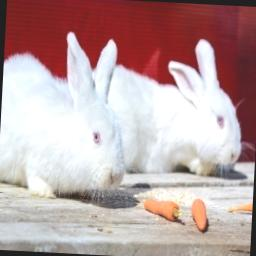rabbit: (0, 32, 124, 196), (108, 39, 243, 174)
